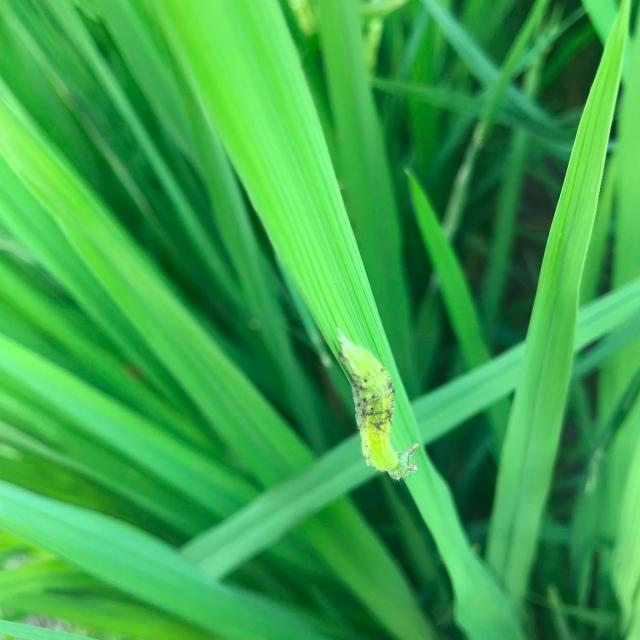ulat pada daun padi: (333, 327, 420, 483)
